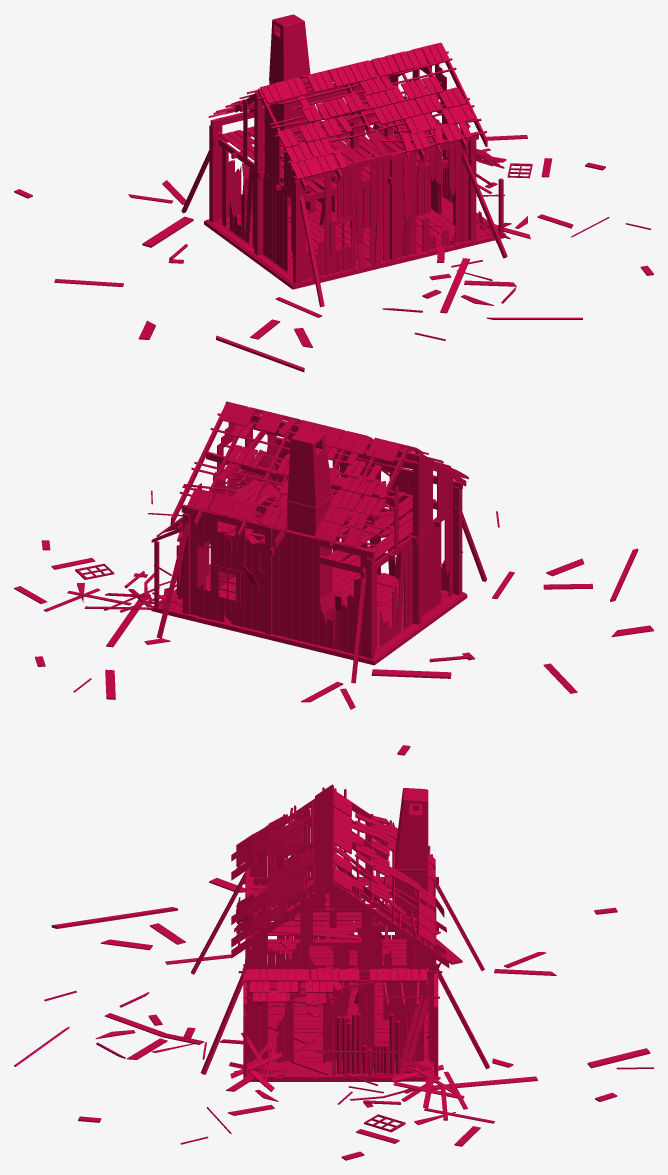
Rendered from casaab.obj.
The picture shows the model from 3 angles, top to bottom: view 1: azimuth 30°, elevation 25°; view 2: azimuth 150°, elevation 25°; view 3: azimuth 270°, elevation 25°; orthographic projection. The views are drawn at different scales.
Visible parts, largest first — view 1: Cube.183; view 2: Cube.183; view 3: Cube.183.
Part boxes in pixels (left/top/right/bottom): Cube.183: left=14, top=14, right=653, bottom=372; Cube.183: left=14, top=401, right=653, bottom=755; Cube.183: left=14, top=784, right=653, bottom=1160.
Bounding box in the file's own units: 48.86 × 17.32 × 46.36.
